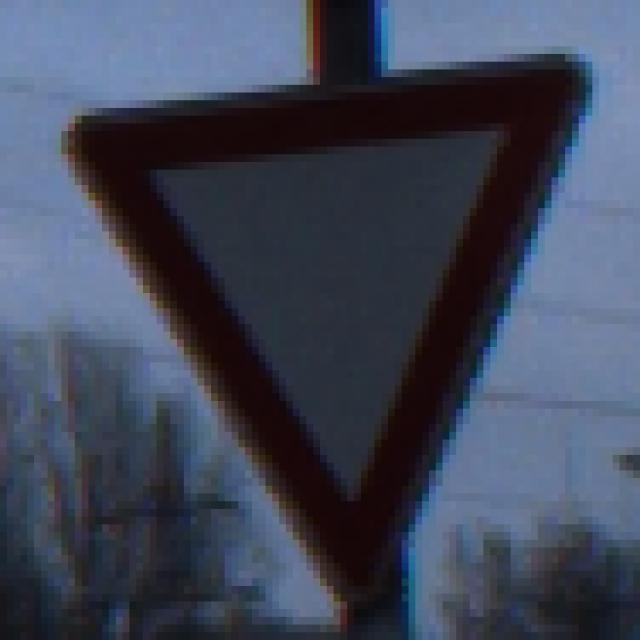Give Way: (62, 55, 587, 587)
